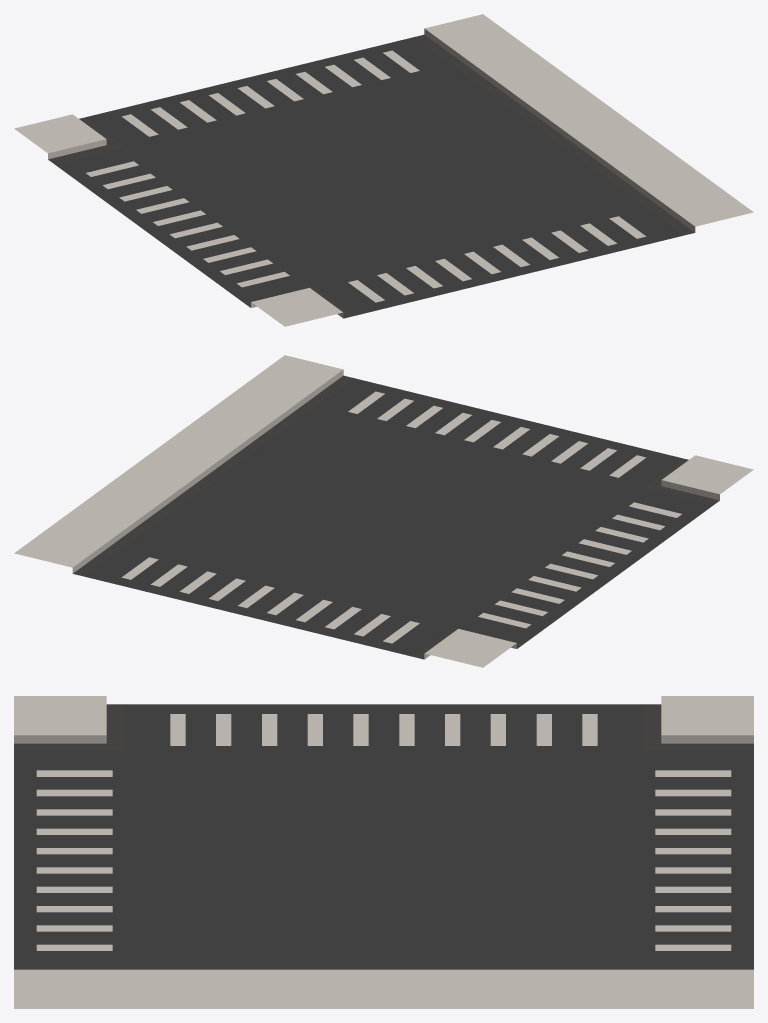
Rendered from quaternius-zombie-apocalypse-kit-march-street-t.glb.
The picture shows the model from 3 angles, top to bottom: view 1: azimuth 30°, elevation 25°; view 2: azimuth 150°, elevation 25°; view 3: azimuth 270°, elevation 25°; orthographic projection. The views are drawn at different scales.
Visible parts, largest first — view 1: Street_T; view 2: Street_T; view 3: Street_T.
Boxes of the visible parts, x1,y1,x2,y2 form: Street_T: [14, 14, 753, 326]; Street_T: [14, 355, 753, 667]; Street_T: [14, 696, 753, 1008].
Bounding box in the file's own units: 8 × 0.0996 × 8.
1 material, 1 textured.
